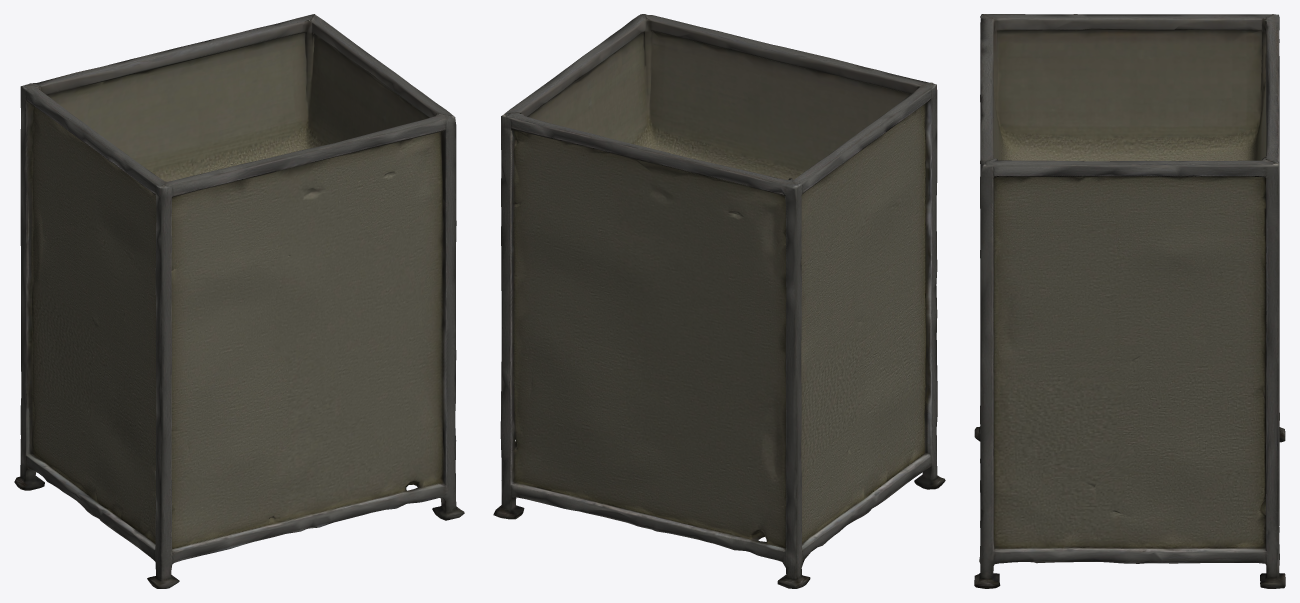
File: theme-office-divider-v05.glb
3 renders of one model, left to right at view 1: azimuth 30°, elevation 25°; view 2: azimuth 150°, elevation 25°; view 3: azimuth 270°, elevation 25°, orthographic. The views are drawn at different scales.
Parts seen in each view (by area): view 1: tripo_node_141a21e6-10ef-4e7e-9e81-cd449085686d; view 2: tripo_node_141a21e6-10ef-4e7e-9e81-cd449085686d; view 3: tripo_node_141a21e6-10ef-4e7e-9e81-cd449085686d.
Boxes of the visible parts, left/top/right/bottom form: tripo_node_141a21e6-10ef-4e7e-9e81-cd449085686d: left=14, top=14, right=464, bottom=588; tripo_node_141a21e6-10ef-4e7e-9e81-cd449085686d: left=493, top=14, right=945, bottom=588; tripo_node_141a21e6-10ef-4e7e-9e81-cd449085686d: left=974, top=14, right=1285, bottom=588.
Size of the model in its own units: 1.04 by 1.3 by 0.868.
Materials: 1 (1 with a texture image).
